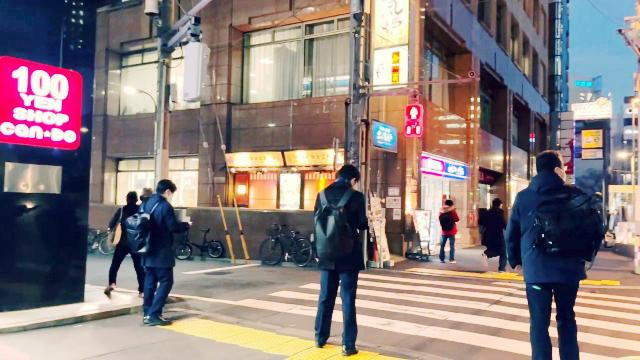berdiri: (496, 144, 608, 360), (308, 163, 370, 357), (136, 164, 184, 332)
